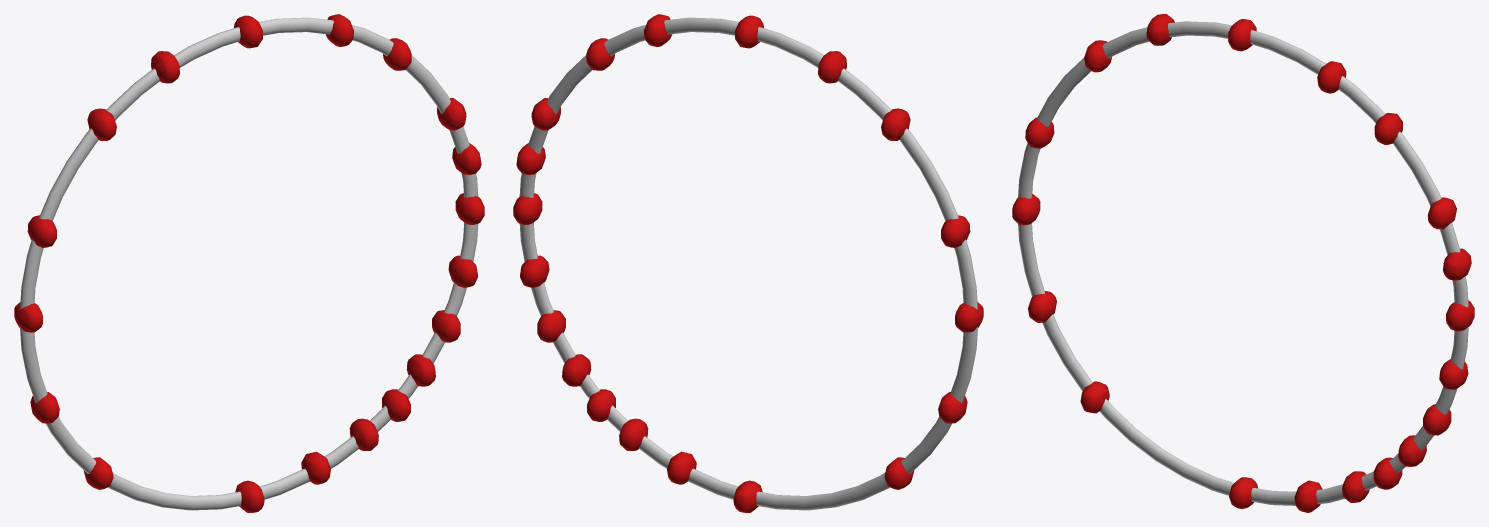
3 renders of one model, left to right at view 1: azimuth 30°, elevation 25°; view 2: azimuth 150°, elevation 25°; view 3: azimuth 330°, elevation 25°, orthographic.
Parts seen in each view (by area): view 1: Ring_Torus, Electron_Mball; view 2: Ring_Torus, Electron_Mball; view 3: Ring_Torus, Electron_Mball.
Part boxes in pixels (box(x1,y1,x2,y2)): Ring_Torus: box(20, 17, 478, 510); Electron_Mball: box(14, 14, 484, 512); Ring_Torus: box(519, 17, 977, 510); Electron_Mball: box(513, 14, 983, 512); Ring_Torus: box(1018, 21, 1468, 505); Electron_Mball: box(1012, 14, 1474, 512).
Size of the model in its own units: 2.91 by 2.96 by 0.2136.
